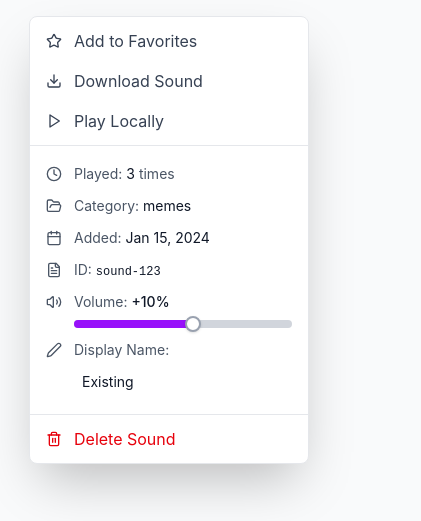
Test: ContextMenu - display name editing › cancels editing using Cancel button and Escape key
Note: Enter edit mode
Click the text "Existing" at (108, 382), box [82, 373, 134, 390]
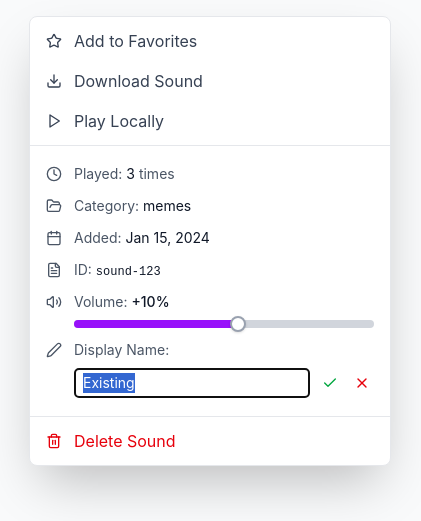
Note: Change then cancel via button
Replace the text in the field showing "Existing" with "Changed" at (192, 383), box [74, 368, 310, 398]
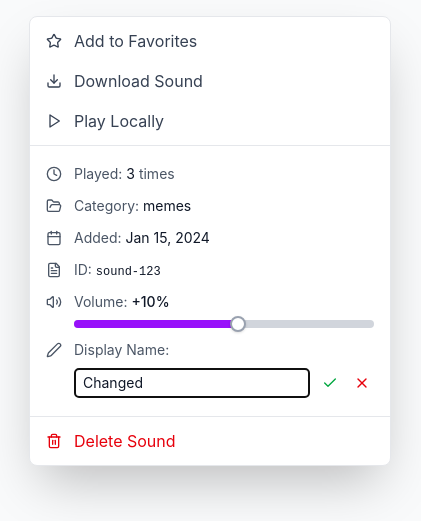
Click the button named "cancel" at (362, 383), box [350, 371, 374, 395]
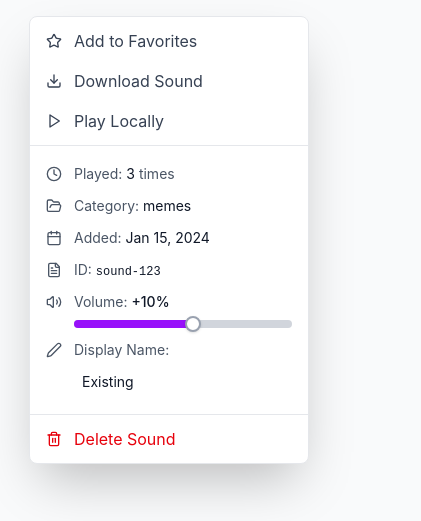
Check: the text "Existing" is shown
Note: Enter edit mode again and cancel via Escape
Click the text "Existing" at (108, 382), box [82, 373, 134, 390]
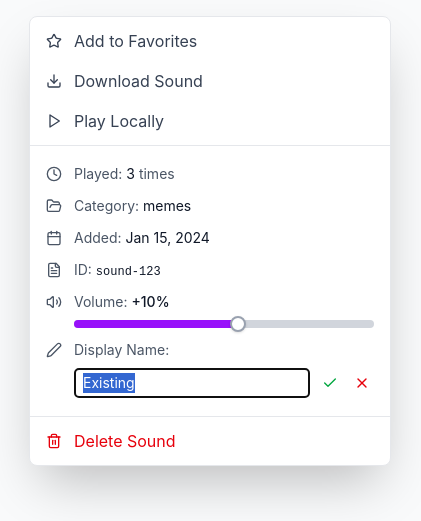
Press Escape in the field showing "Existing", box [74, 368, 310, 398]
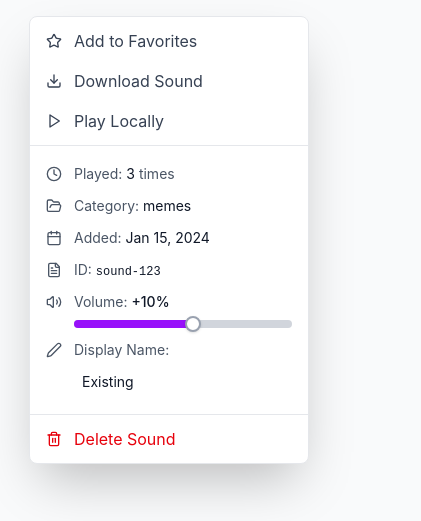
Check: the text "Existing" is shown, box [82, 373, 134, 390]
